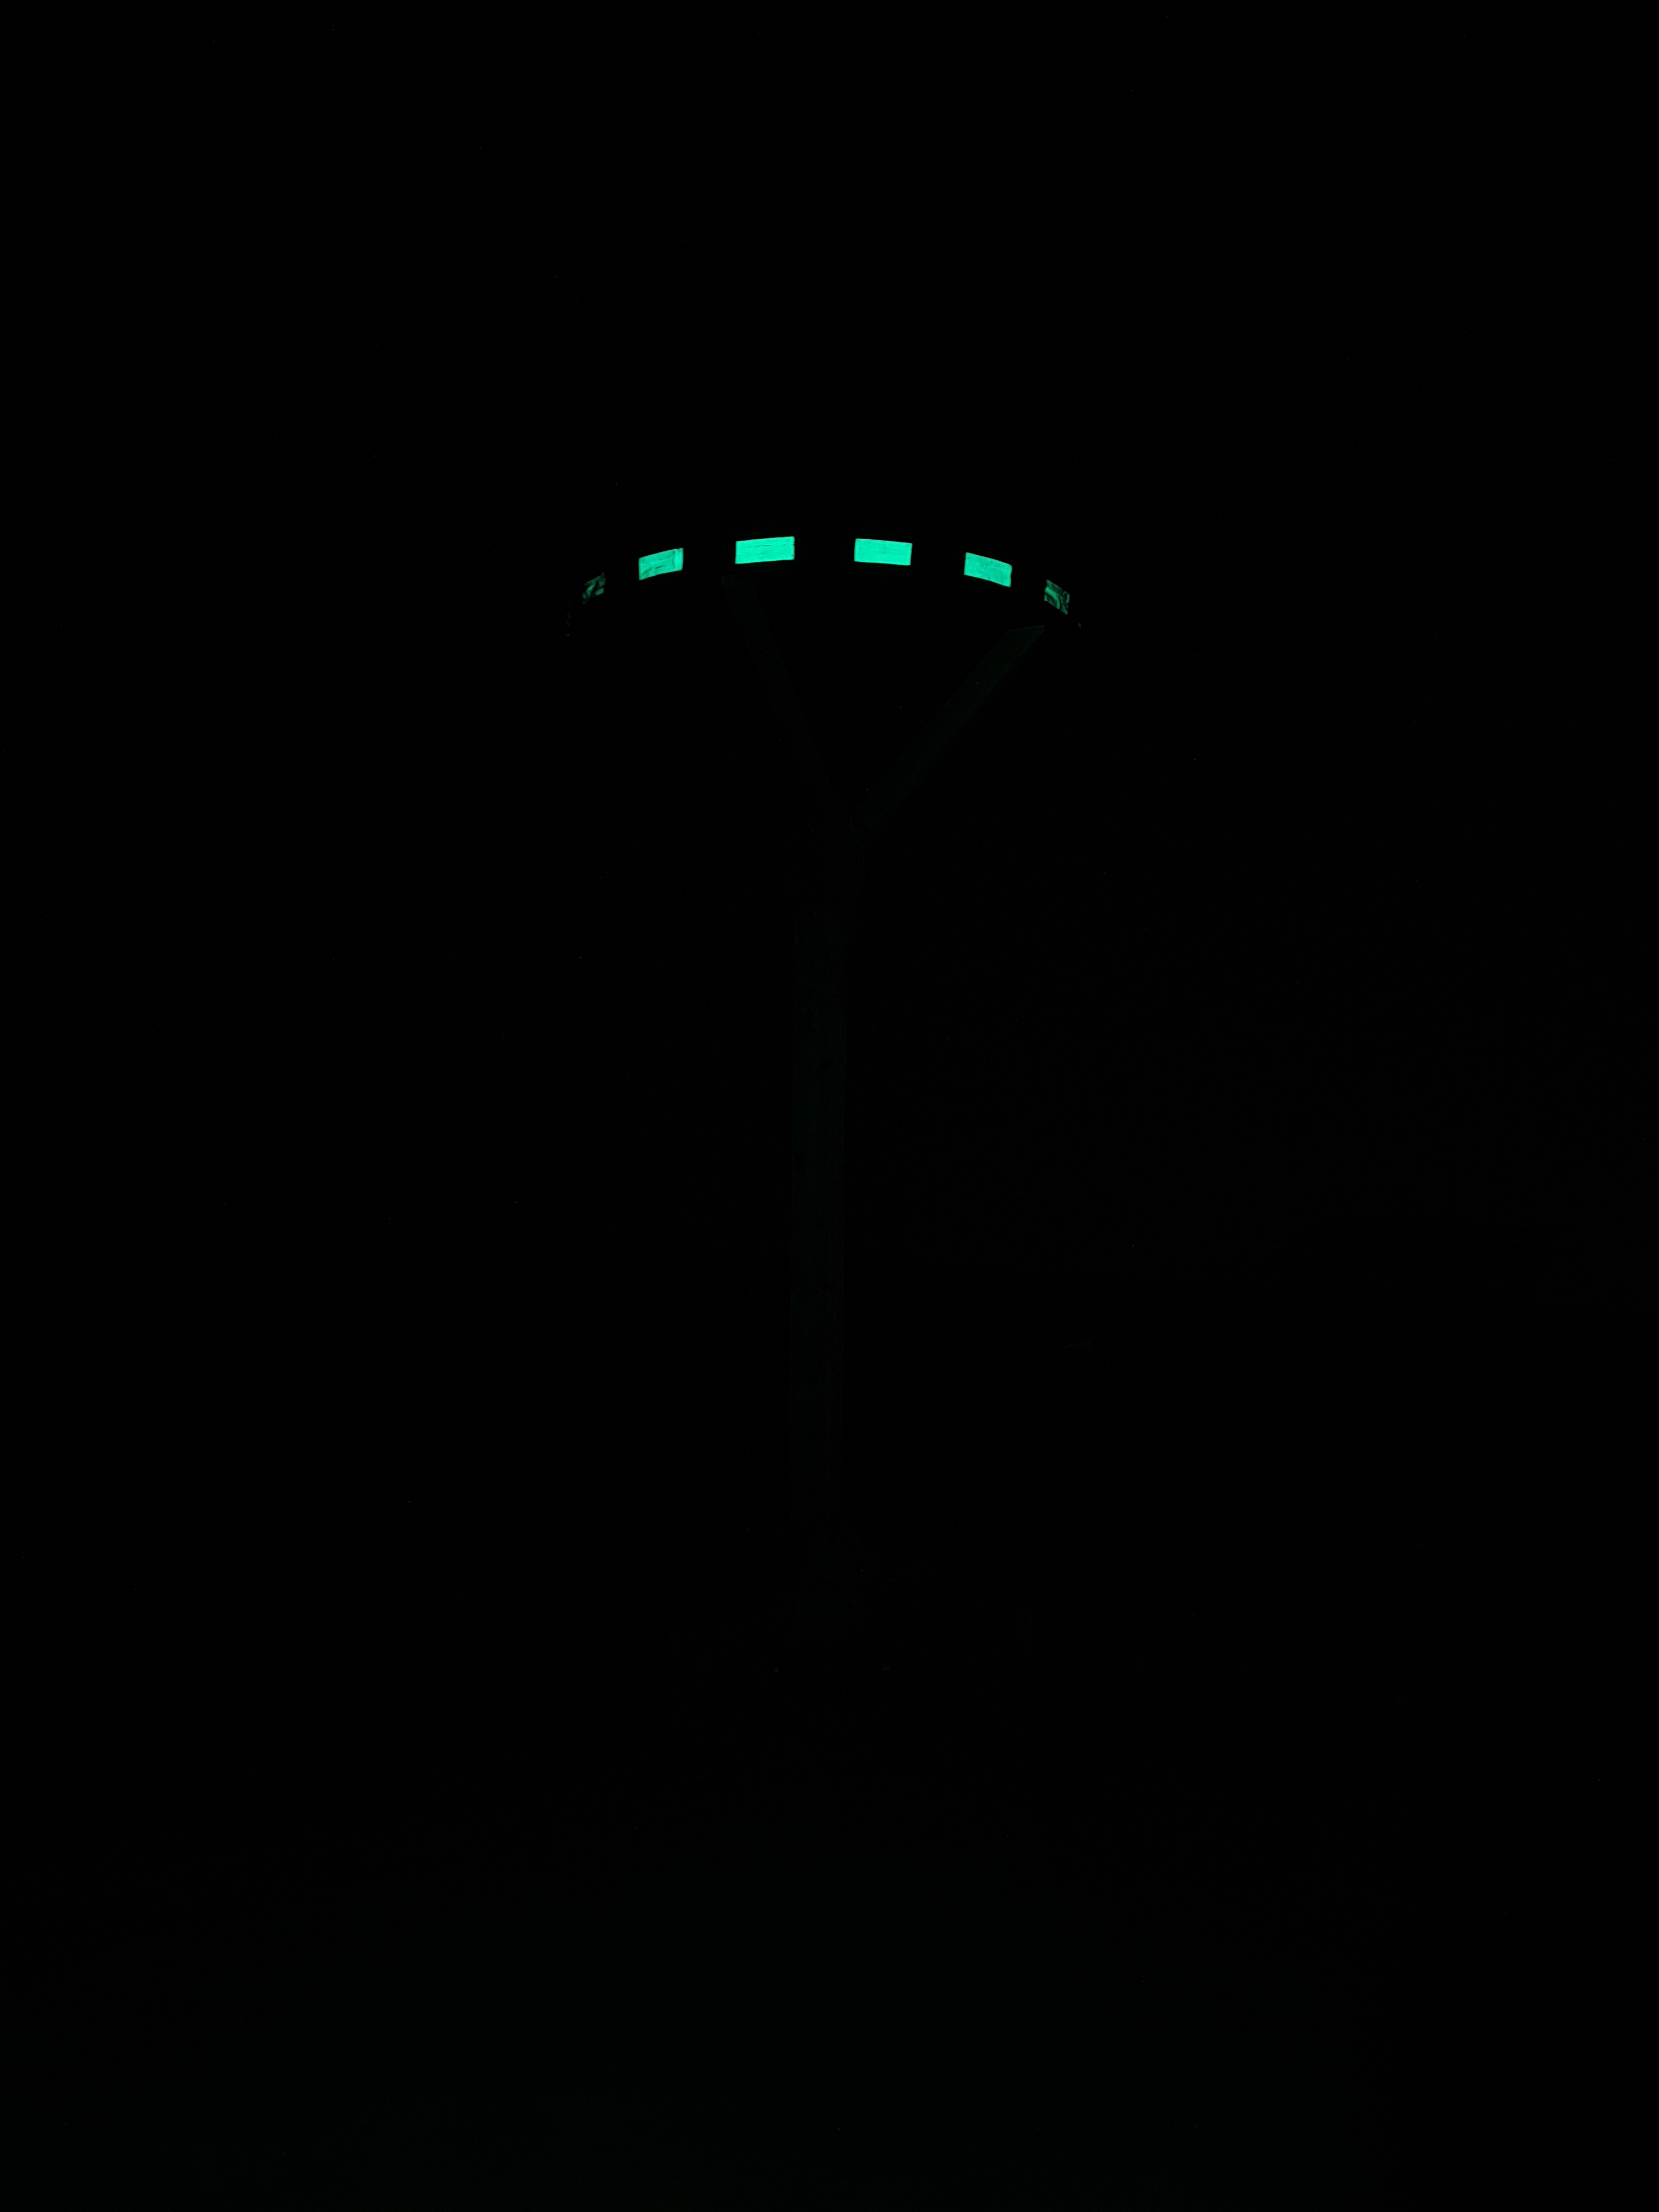hoop: (545, 536, 1075, 631)
